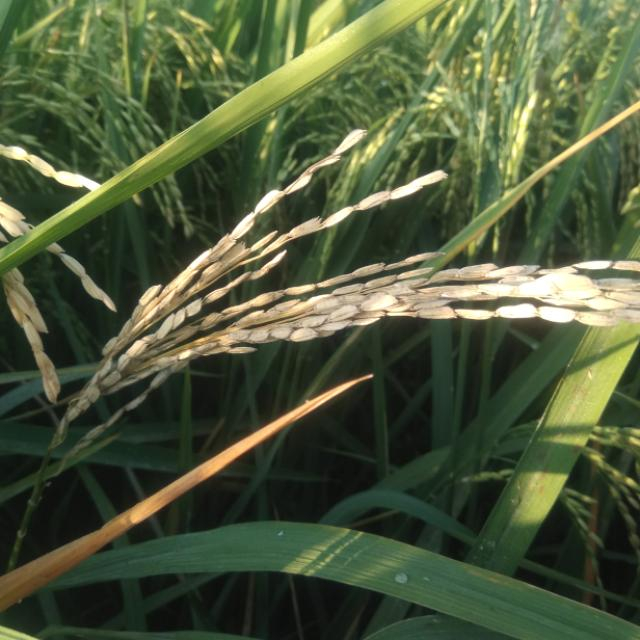Hawar Daun Bakteri: (0, 358, 382, 621), (458, 85, 640, 248)
